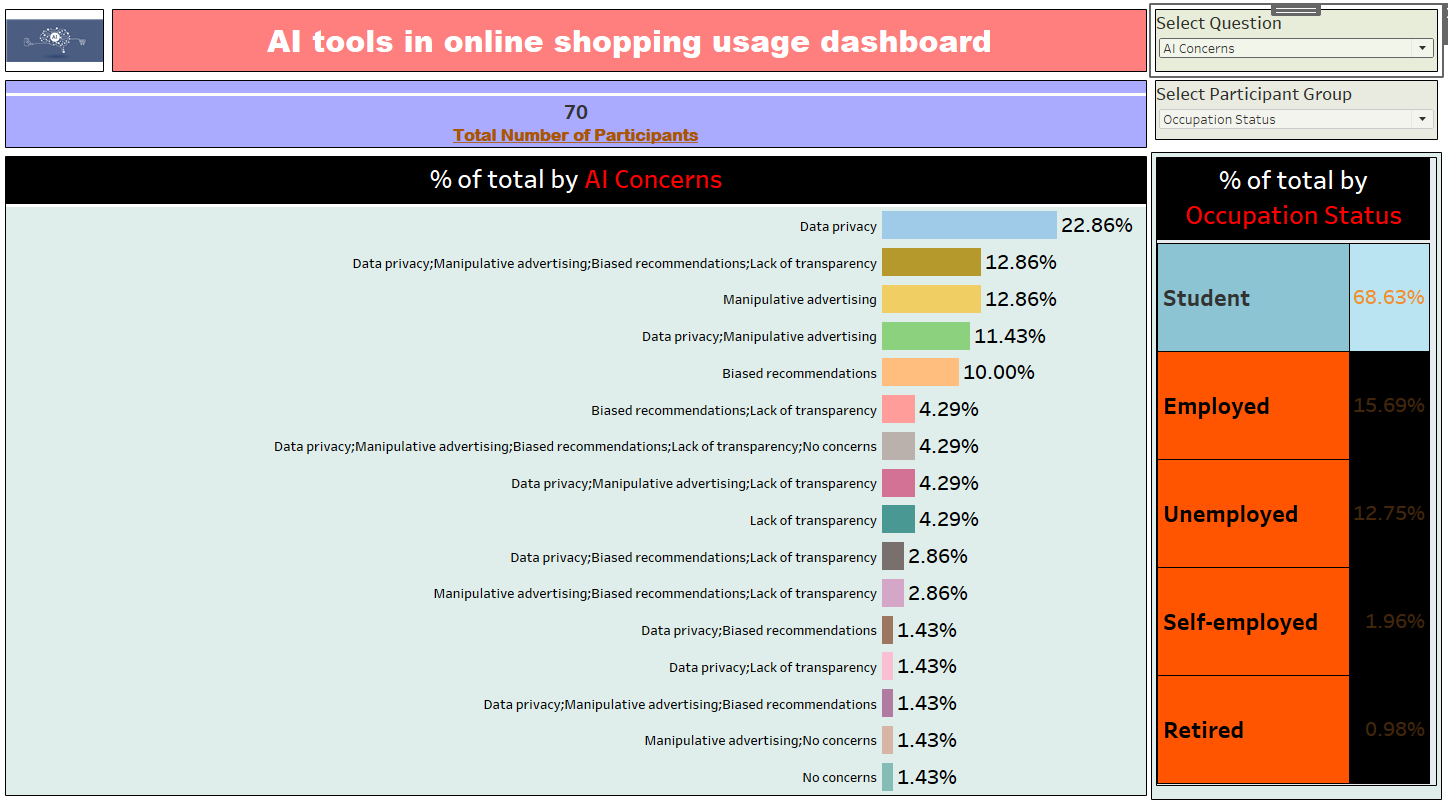

Layout of this report page (visuals, bound fields, positions):
{"tool":"tableau","page":{"name":"Dashboard","canvas":[1000,1000],"units":"permille","ordinal":0},"visuals":[{"type":"image","param":"Image/images.png","box":[4.2,9.9,77.9,87.5]},{"type":"text","box":[82.1,9.9,759.5,87.5]},{"type":"parameter","param":"[Parameters].[Parameter 1]","box":[841.6,9.9,154.1,87.5]},{"type":"worksheet","title":"Total No of Participants","mark":"Automatic","box":[4.2,97.4,837.4,93.7]},{"type":"parameter","param":"[Parameters].[Parameter 2]","box":[841.6,97.4,154.1,83.8]},{"type":"worksheet","title":"Parameter by % of total","mark":"Automatic","rows":["Calculation_699183897261547525"],"cols":["The Influence of AI in E-Commerce.csv_0D54B13139EB4AE488B1F7"],"box":[4.2,191.1,837.4,799]},{"type":"worksheet","title":"Participant Group","mark":"Automatic","rows":["Calculation_665969855279251457"],"box":[842.2,192.3,153.1,785.5]}]}

Visuals, with their boxes on the dashboard's canvas, which has no fixed pixel size, in thousandths of its width and height (x1, y1, x2, y2). These are canvas units, not pixel positions in the 1448x803 screenshot, which may show the page scaled, cropped or inside an application window:
image: pyautogui.locateOnScreen(4, 10, 82, 97)
text: pyautogui.locateOnScreen(82, 10, 842, 97)
parameter: pyautogui.locateOnScreen(842, 10, 996, 97)
"Total No of Participants" worksheet: pyautogui.locateOnScreen(4, 97, 842, 191)
parameter: pyautogui.locateOnScreen(842, 97, 996, 181)
"Parameter by % of total" worksheet: pyautogui.locateOnScreen(4, 191, 842, 990)
"Participant Group" worksheet: pyautogui.locateOnScreen(842, 192, 995, 978)
